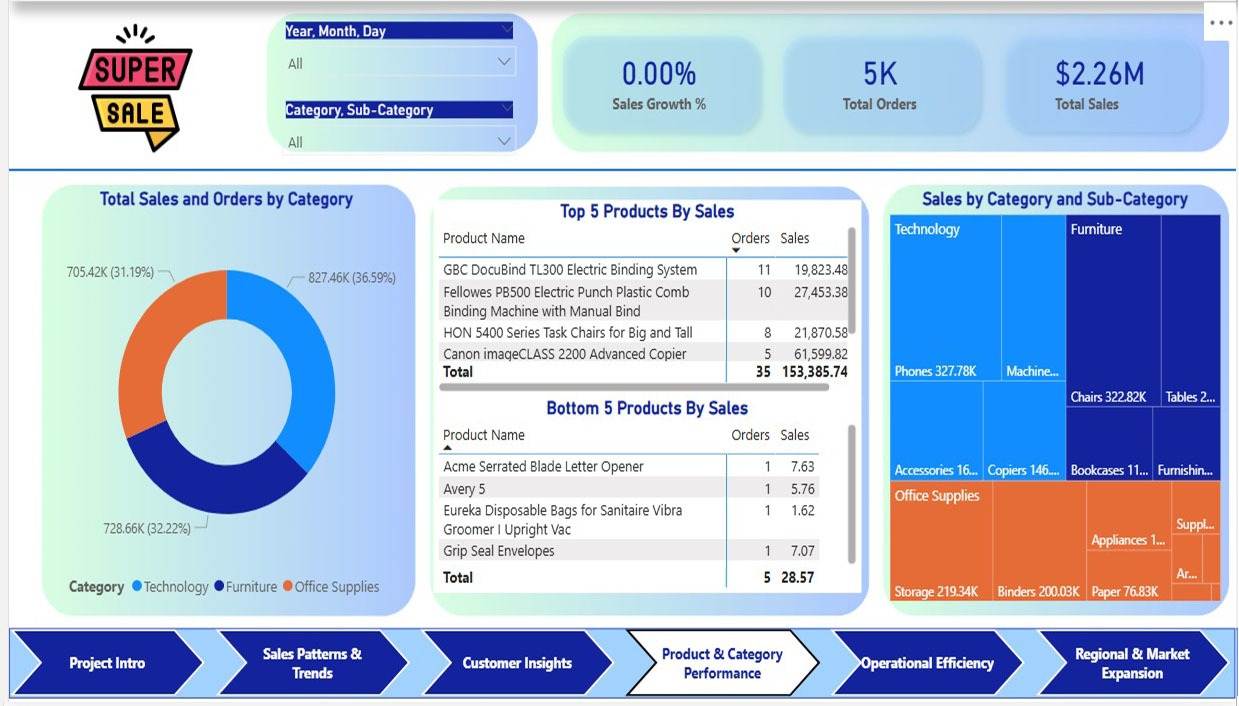

The page's visual inventory and layout, read from the dashboard file:
{"tool":"powerbi","page":{"name":"Product & Category Performance","canvas":[1280,720],"ordinal":4},"visuals":[{"type":"pageNavigator","box":[0,650,1273.8,64.6],"z":1000},{"type":"image","box":[0,84.4,262.4,133.2],"z":2000},{"type":"slicer","fields":{"Values":["Date.Date.Variation.Date Hierarchy.Year","Date.Date.Variation.Date Hierarchy.Month","Date.Date.Variation.Date Hierarchy.Day"]},"box":[274.7,84.6,262.4,72.4],"z":3000},{"type":"slicer","fields":{"Values":["Superstore Sales Dataset.Category","Superstore Sales Dataset.Sub-Category"]},"box":[274.7,157,262.4,72.4],"z":4000},{"type":"cardVisual","fields":{"Data":["Sales Measure.Sales Growth %","Sales Measure.Total Orders","Sales Measure.Total Sales"]},"box":[537.1,84.6,737,125.1],"z":5000},{"type":"shape","box":[0,209.7,1280.2,31.9],"z":6000},{"type":"donutChart","fields":{"Y":["Sales Measure.Total Sales"],"Category":["Superstore Sales Dataset.Category"]},"box":[29.6,243.1,392.7,386.5],"z":7000},{"type":"pivotTable","title":"Top 5 Products By Sales","fields":{"Values":["Count(Superstore Sales Dataset.Order ID)","Sum(Superstore Sales Dataset.Sales)"],"Rows":["Superstore Sales Dataset.Product Name"]},"box":[441,254,444.2,182.3],"z":8000},{"type":"pivotTable","title":"Bottom 5 Products By Sales","fields":{"Values":["Count(Superstore Sales Dataset.Order ID)","Sum(Superstore Sales Dataset.Sales)"],"Rows":["Superstore Sales Dataset.Product Name"]},"box":[441,436.4,444.2,180.8],"z":9000},{"type":"treemap","title":"Sales by Category and Sub-Category","fields":{"Values":["Sum(Superstore Sales Dataset.Sales)"],"Group":["Superstore Sales Dataset.Category"],"Details":["Superstore Sales Dataset.Sub-Category"]},"box":[910.1,243.1,353.8,386.5],"z":10000}]}

Visuals, with their boxes in screenshot pixels (x1, y1, x2, y2), scaled from the page's 1280x720 canvas onto the 1239x706 screenshot:
pageNavigator: 0,637,1233,701
image: 0,83,254,213
slicer - Date.Date.Variation.Date Hierarchy.Year x Date.Date.Variation.Date Hierarchy.Month: 266,83,520,154
slicer - Superstore Sales Dataset.Category x Superstore Sales Dataset.Sub-Category: 266,154,520,225
cardVisual - Sales Measure.Sales Growth % x Sales Measure.Total Orders: 520,83,1233,206
shape: 0,206,1238,237
donutChart - Sales Measure.Total Sales x Superstore Sales Dataset.Category: 29,238,409,617
"Top 5 Products By Sales" pivotTable: 427,249,857,428
"Bottom 5 Products By Sales" pivotTable: 427,428,857,605
"Sales by Category and Sub-Category" treemap: 881,238,1223,617
